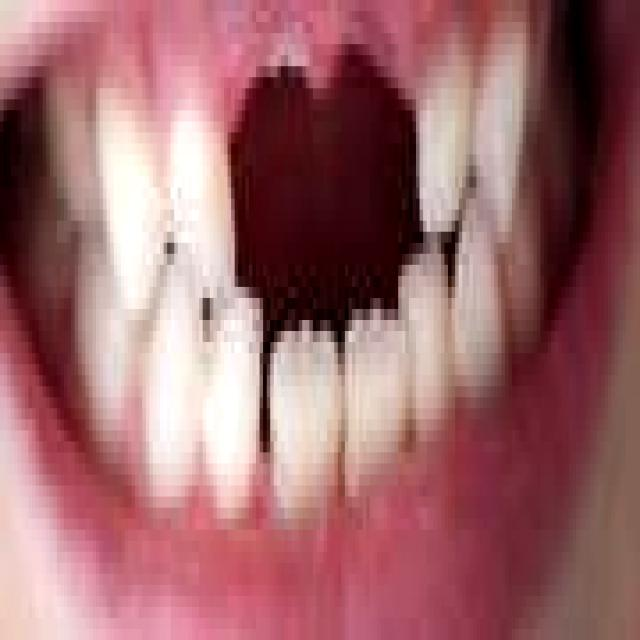hypodontia: (146, 0, 466, 309)
